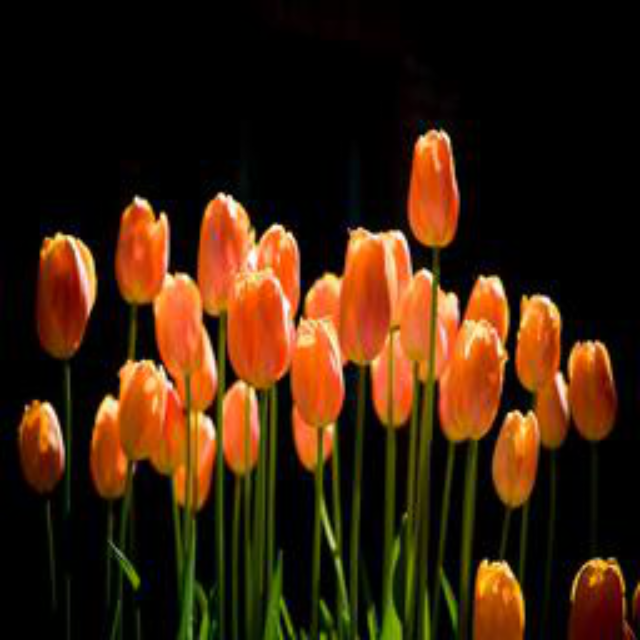tulip: (222, 267, 299, 394), (33, 230, 100, 367), (443, 317, 506, 450), (198, 189, 255, 325), (341, 227, 395, 367), (399, 266, 461, 386), (409, 125, 462, 257), (114, 195, 170, 313), (149, 272, 204, 388), (116, 354, 168, 473), (160, 326, 221, 421), (368, 319, 417, 436), (487, 411, 543, 512), (291, 317, 345, 420), (87, 393, 135, 507), (567, 340, 619, 442), (215, 379, 264, 486), (18, 397, 66, 503), (168, 414, 218, 515), (568, 555, 630, 636), (469, 559, 529, 639), (250, 222, 303, 312), (517, 292, 564, 393), (462, 273, 512, 354), (305, 267, 348, 360), (153, 388, 191, 487), (287, 402, 339, 473), (532, 371, 570, 452)
